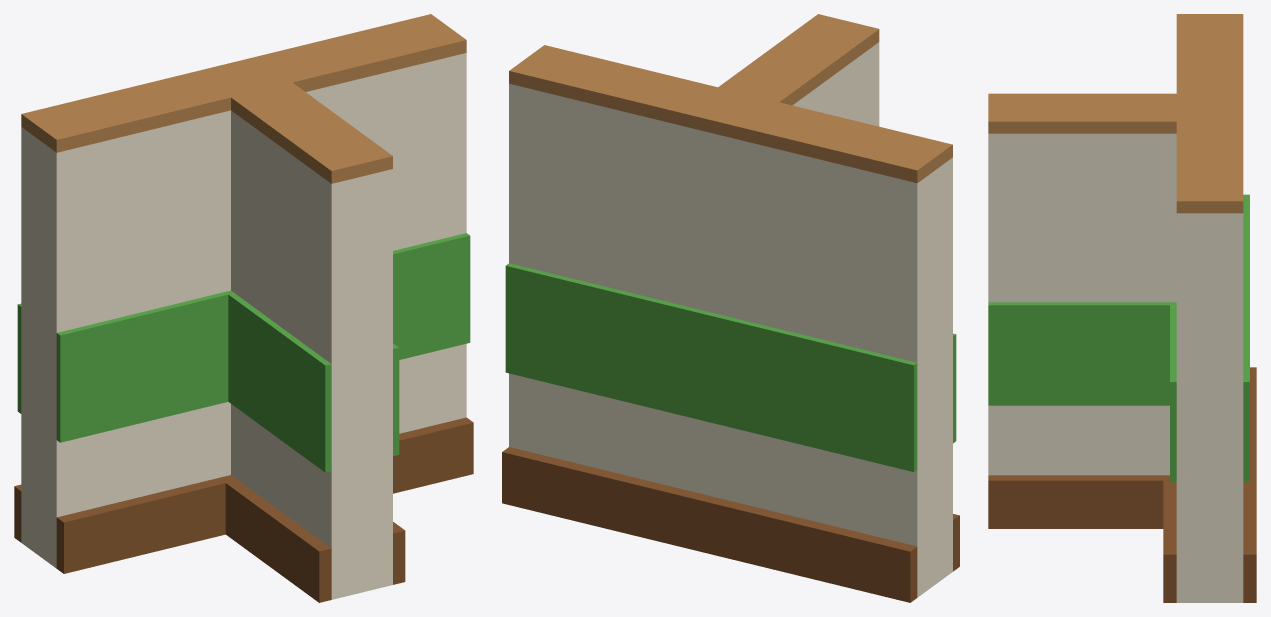
File: partition-full-tee.glb
3 renders of one model, left to right at view 1: azimuth 30°, elevation 25°; view 2: azimuth 150°, elevation 25°; view 3: azimuth 270°, elevation 25°, orthographic. The views are drawn at different scales.
Visible parts, largest first — view 1: partition-full-tee; view 2: partition-full-tee; view 3: partition-full-tee.
Part boxes in pixels (left/top/right/bottom): partition-full-tee: left=14, top=14, right=473, bottom=602; partition-full-tee: left=502, top=14, right=959, bottom=602; partition-full-tee: left=988, top=14, right=1256, bottom=602.
Size of the model in its own units: 1 by 1 by 0.605.
1 material, 1 textured.
